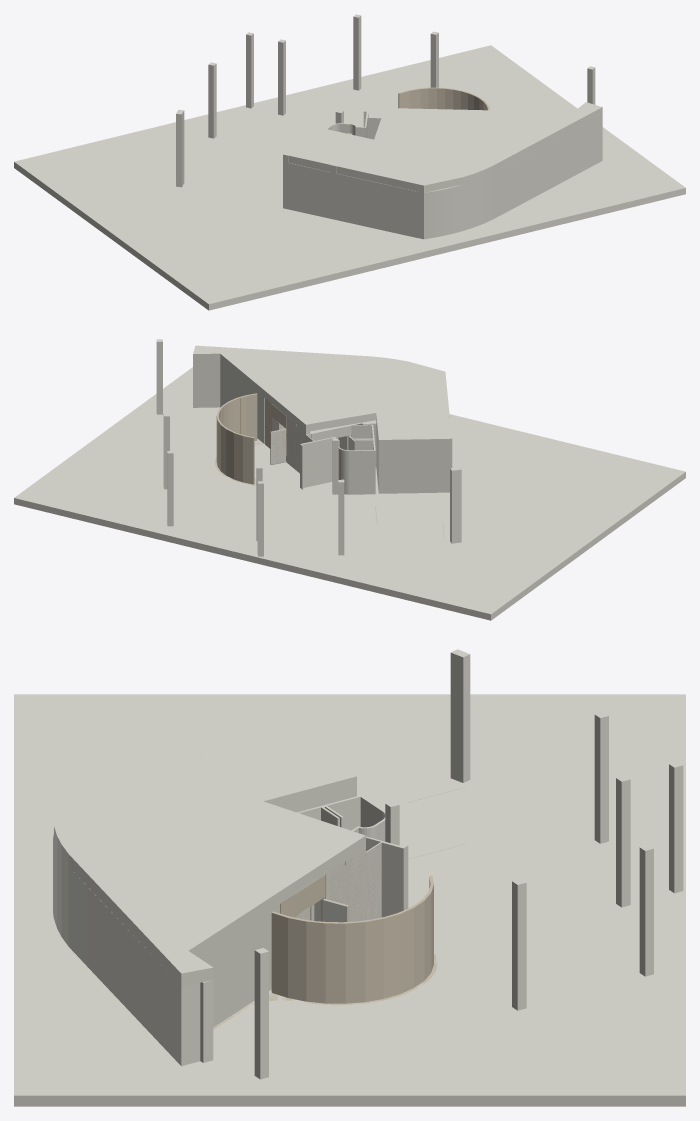
File: city-preview.glb
The picture shows the model from 3 angles, top to bottom: view 1: azimuth 30°, elevation 25°; view 2: azimuth 150°, elevation 25°; view 3: azimuth 270°, elevation 25°; orthographic projection. The views are drawn at different scales.
Size of the model in its own units: 27.39 by 4.35 by 19.38.
